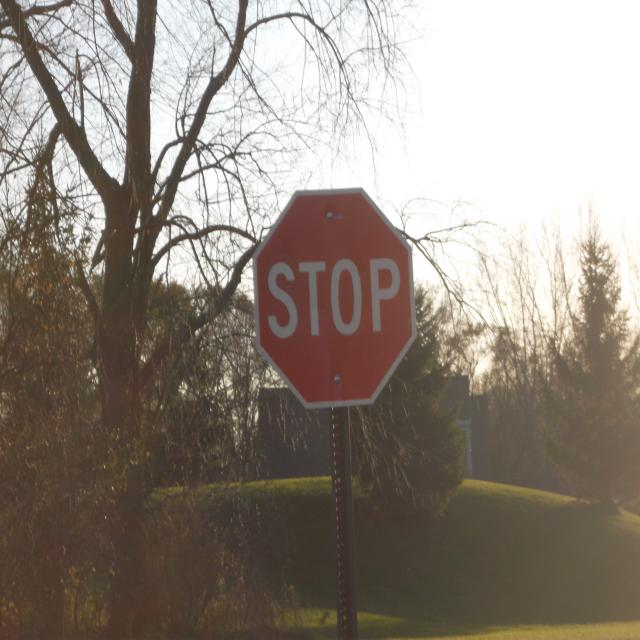stop: (249, 186, 421, 417)
